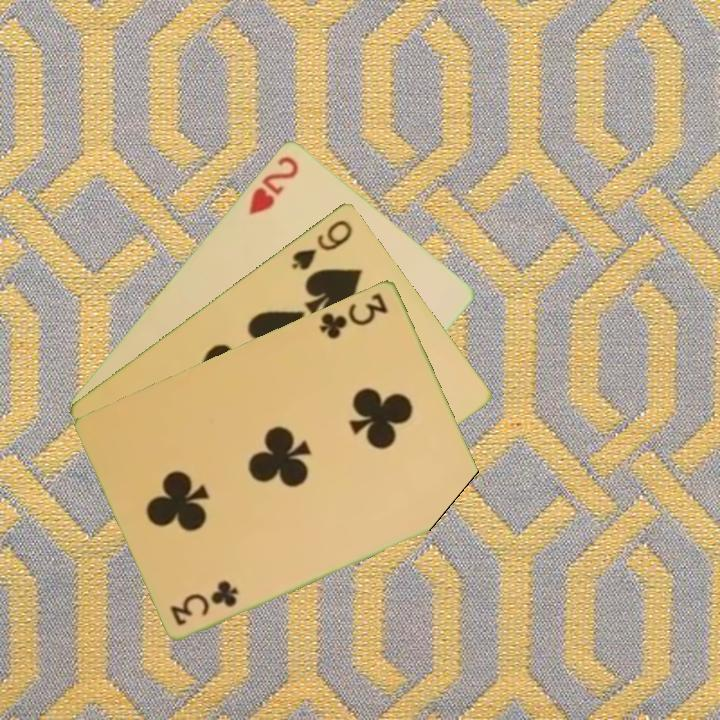2h: (244, 151, 302, 218)
3c: (316, 289, 391, 342), (167, 578, 242, 628)
9s: (287, 215, 356, 273)
